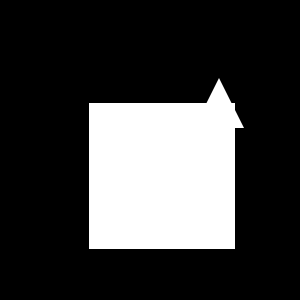circle: (89, 103, 235, 249)
triangle: (194, 78, 244, 128)
